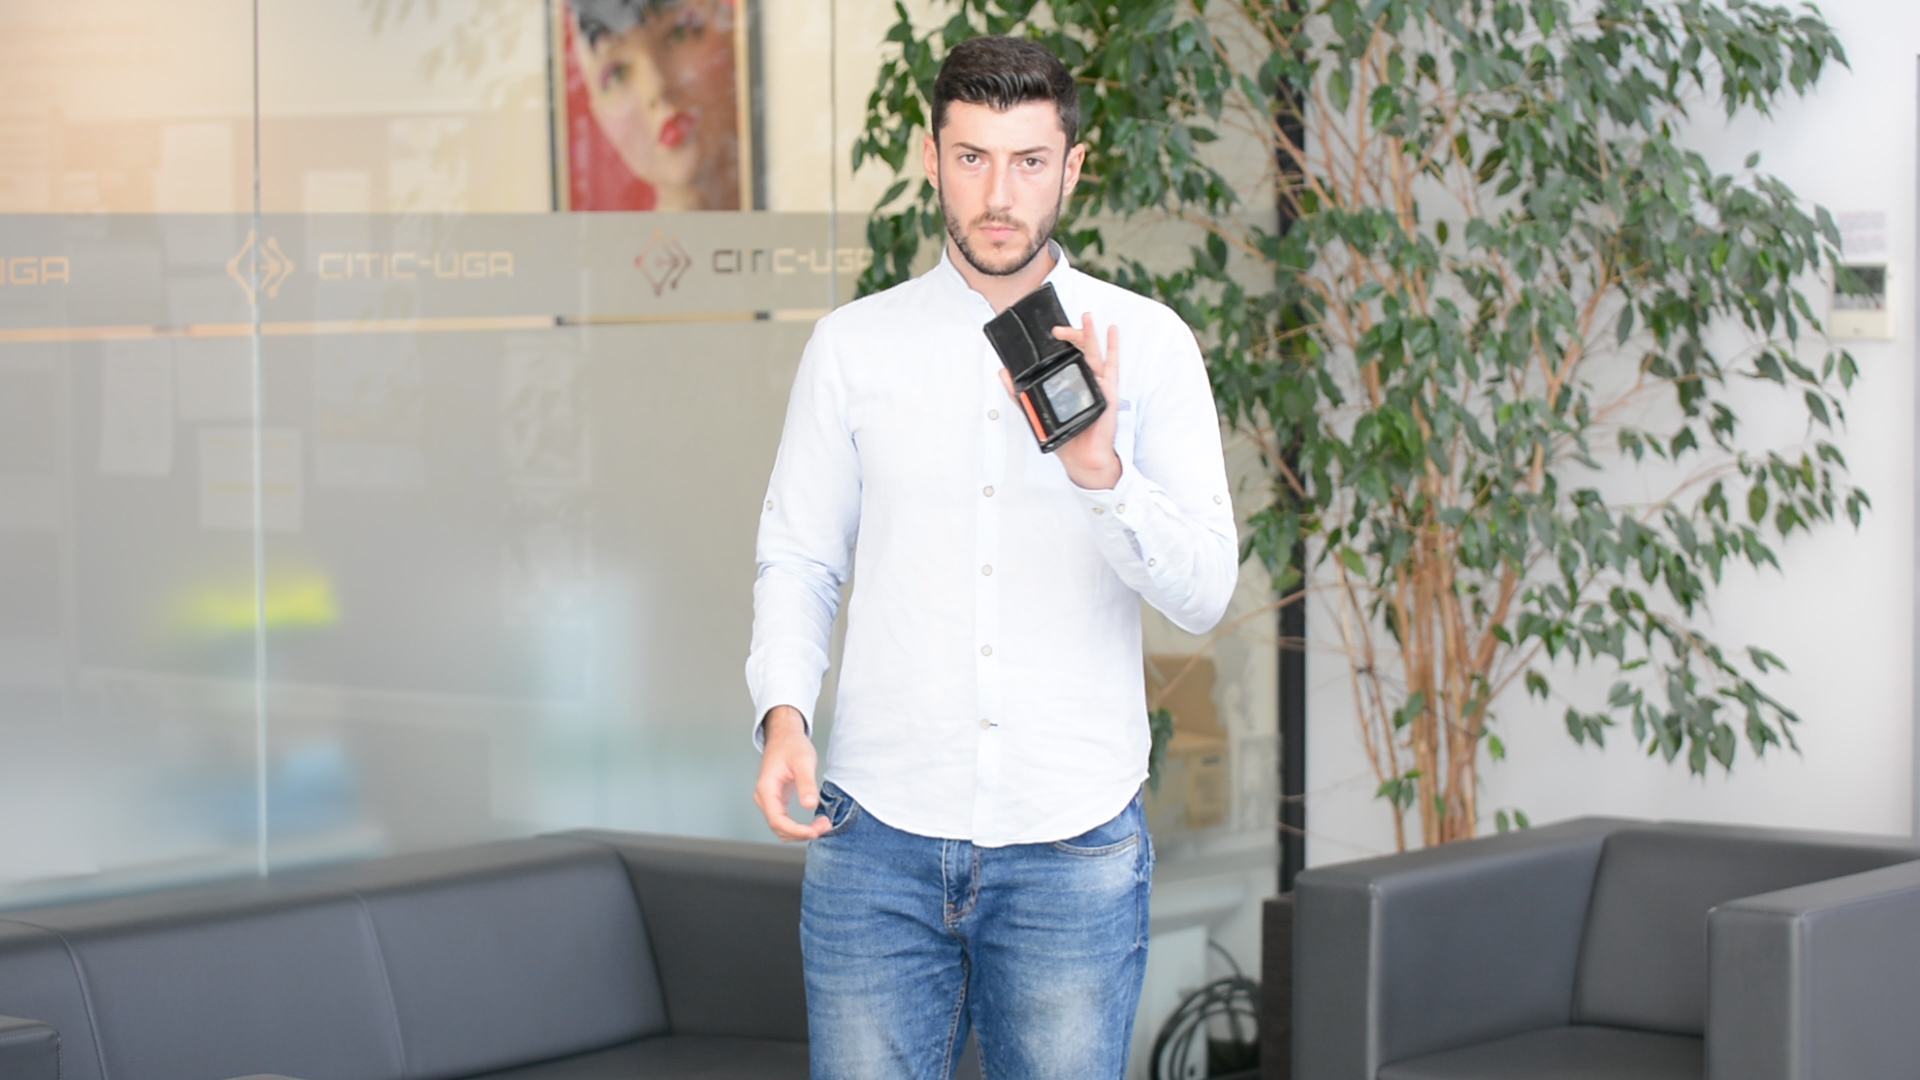monedero: (981, 281, 1110, 455)
